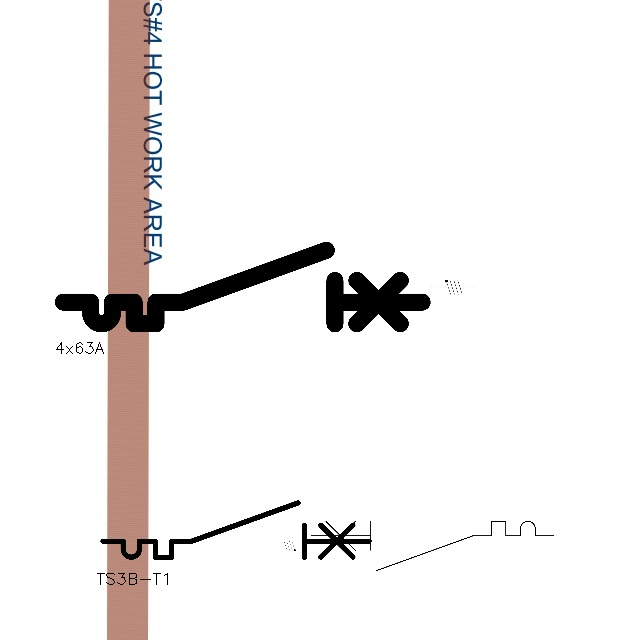interruptor_termomagnetico: (54, 241, 431, 333), (96, 496, 376, 564), (304, 515, 559, 577)
